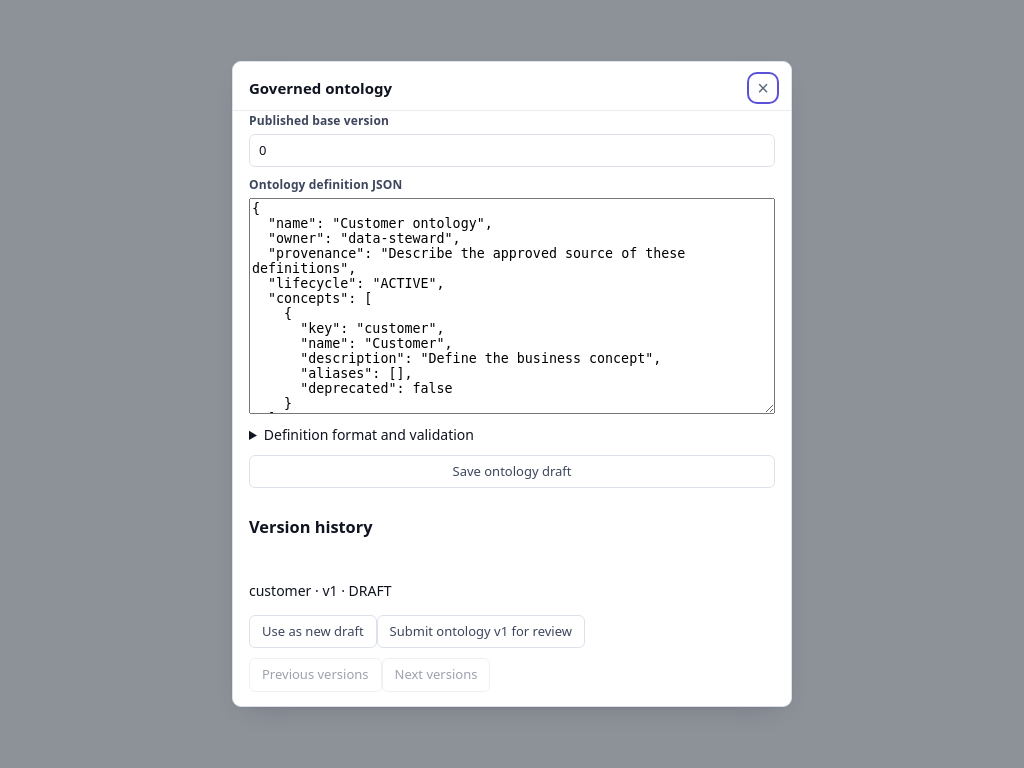
submits a draft explicitly and points to independent review
The image size is (1024, 768).
(page scrolled)
Click the button "Submit ontology v1 for review". click: (481, 631)
box: [377,615,585,648]
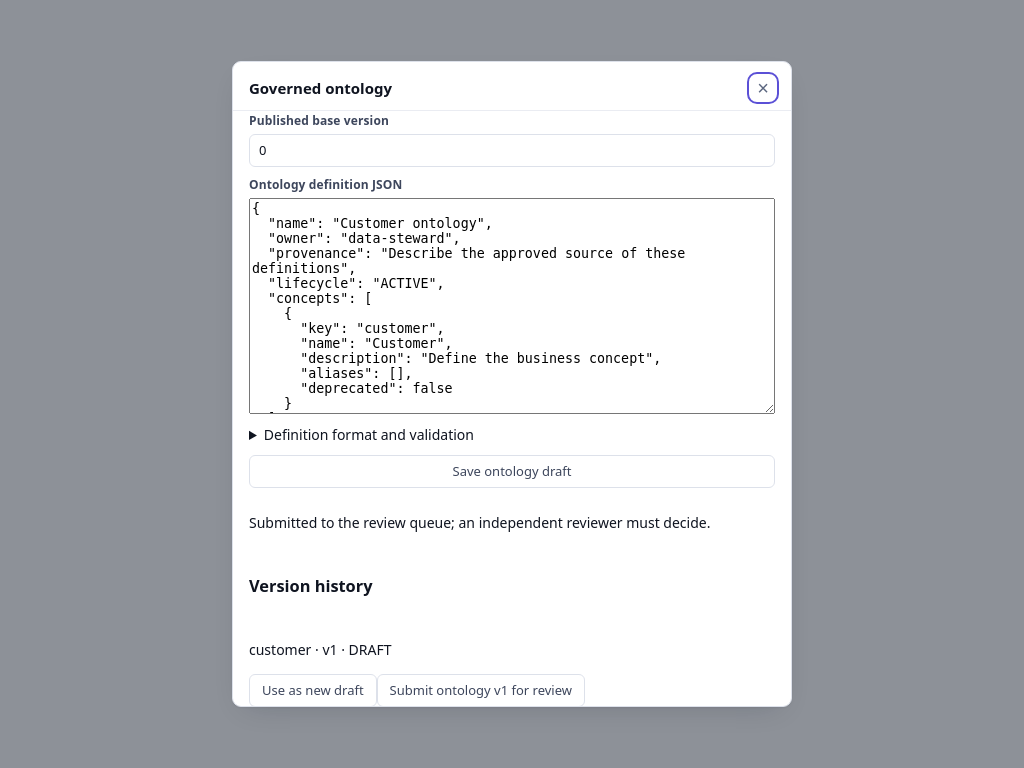
Now the text "Submitted to the review queue; an independent reviewer must decide." is shown, box [249,512,775,533]
